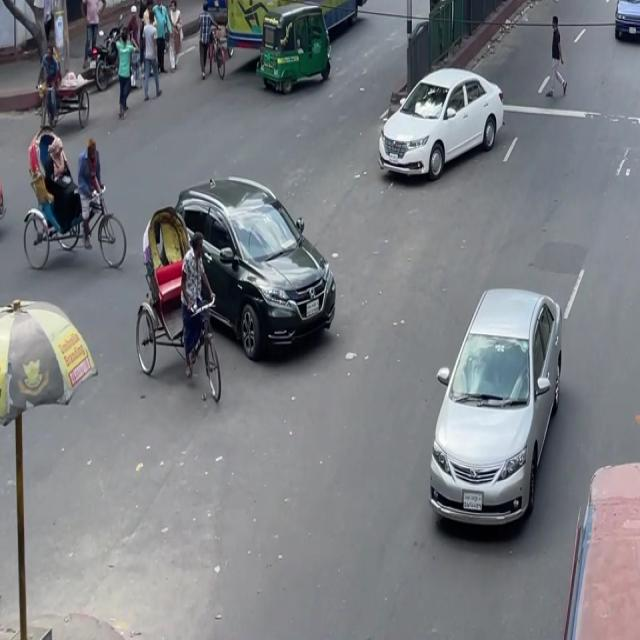car: (148, 150, 346, 372), (423, 268, 569, 539), (371, 56, 507, 196), (611, 0, 640, 48)
rickshaw: (253, 0, 337, 101)
